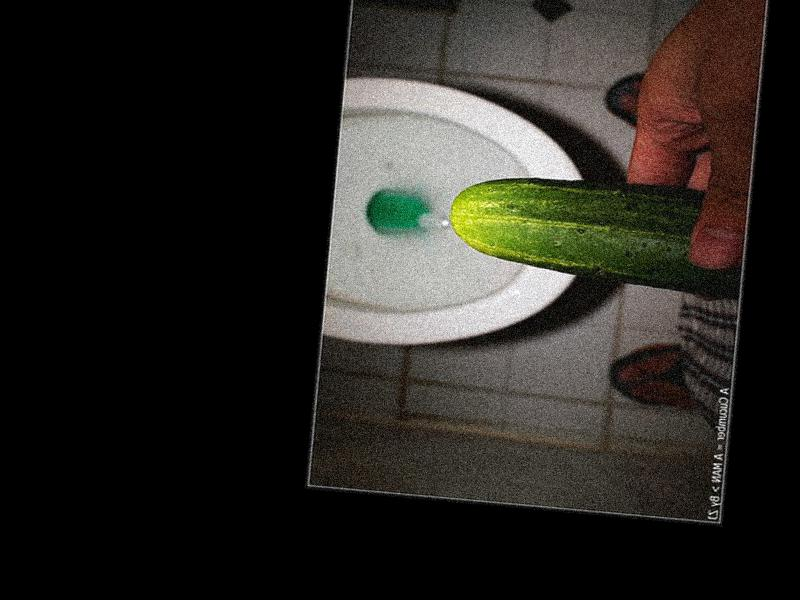Cucumber: (445, 168, 753, 299)
